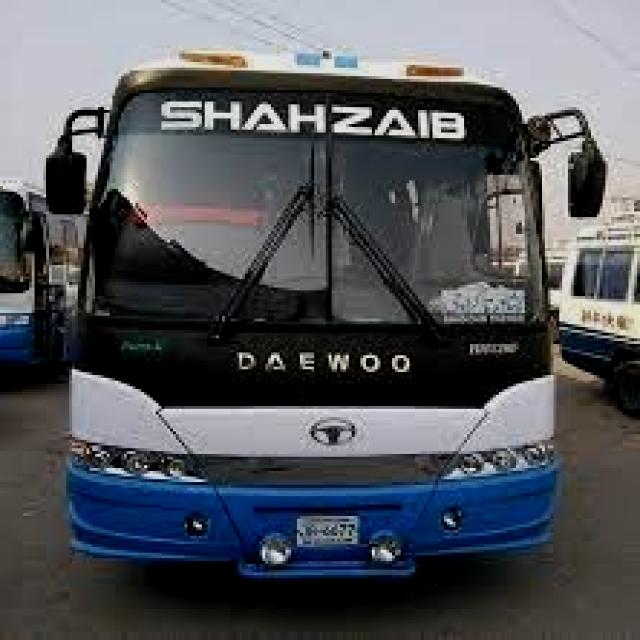bus: (24, 33, 613, 583)
